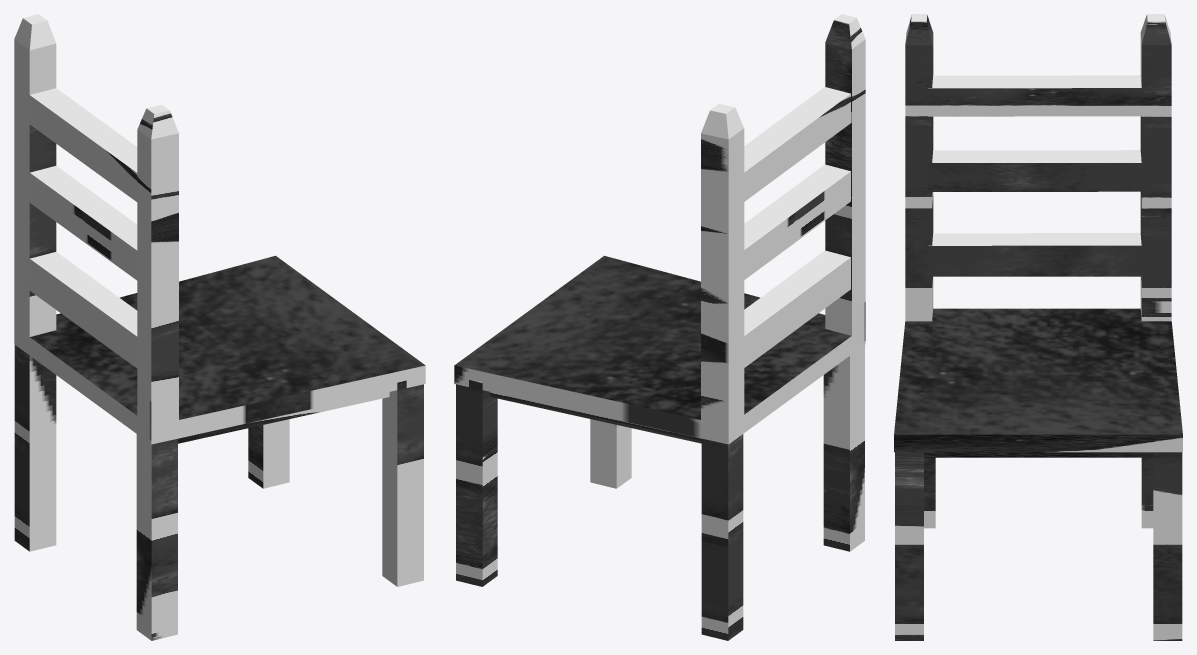
File: silla .fbx
3 renders of one model, left to right at view 1: azimuth 30°, elevation 25°; view 2: azimuth 150°, elevation 25°; view 3: azimuth 270°, elevation 25°, orthographic. The views are drawn at different scales.
Visible parts, largest first — view 1: silla madera; view 2: silla madera; view 3: silla madera.
Boxes of the visible parts, x1,y1,x2,y2 form: silla madera: (14, 14, 425, 640); silla madera: (454, 14, 865, 640); silla madera: (894, 14, 1182, 640).
Bounding box in the file's own units: 82 × 153 × 79.5.
